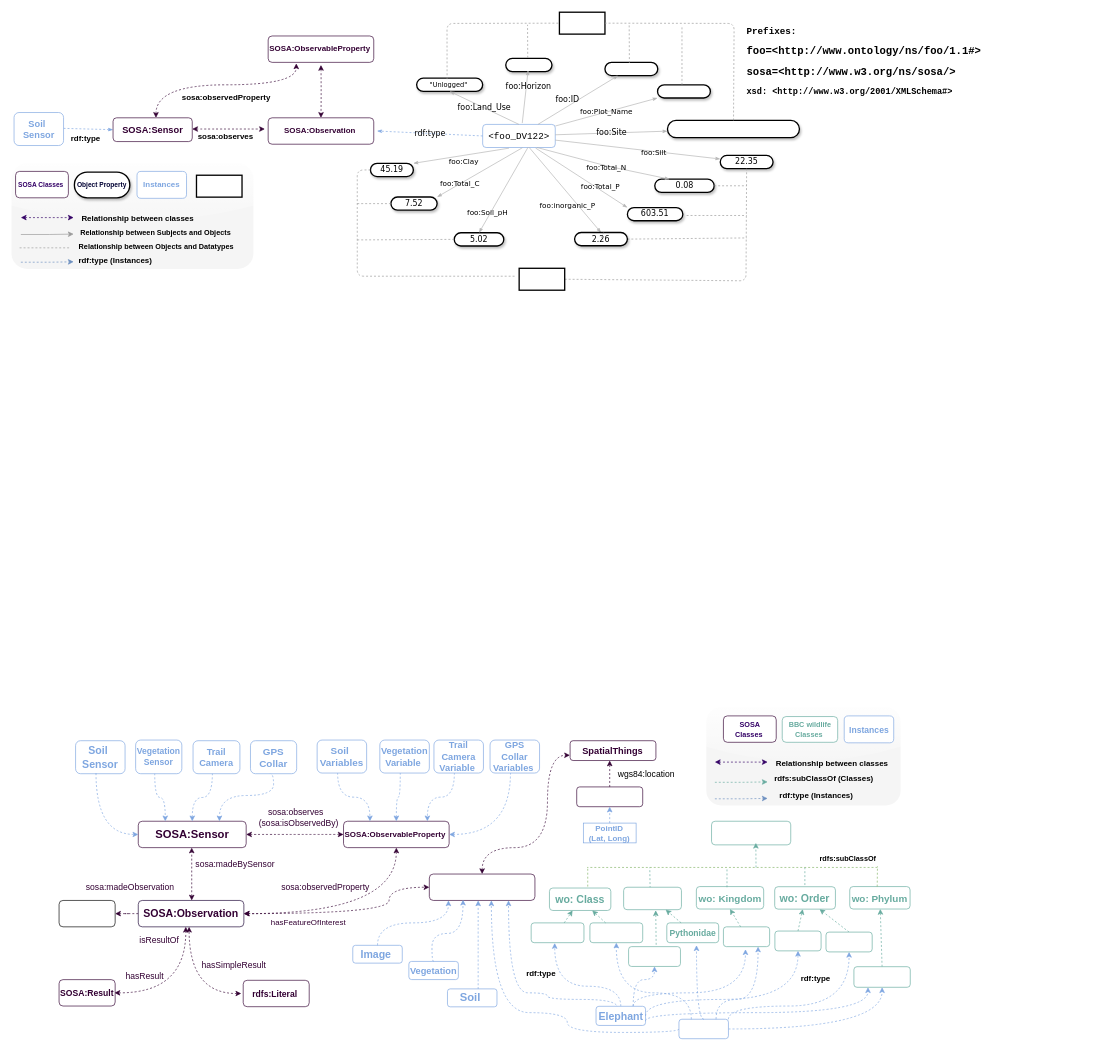
This 1120x1050 diagram has some shape labels left out. The centre of each missing label's shape, as x and y in pixels:
"Danum Valley Conservation Area": point (734, 130)
"DV1": point (684, 92)
"DV1221": point (631, 70)
Animalia: point (746, 936)
Chordata: point (881, 976)
Data Property: point (218, 185)
Elephantidae: point (654, 956)
Mammalia: point (557, 932)
Organic: point (529, 66)
Point: point (609, 796)
Proboscidea: point (797, 940)
Python: point (703, 1029)
Reptilia: point (616, 932)
SOSA:FeatureOInterest: point (482, 886)
Squamata: point (848, 941)
wo: Family: point (652, 898)
wo: TaxonRank: point (751, 833)
xsd:dataTime: point (86, 913)
xsd:float: point (541, 279)
xsd:string: point (581, 22)
